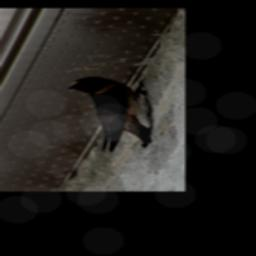Swallow: (68, 76, 155, 153)
